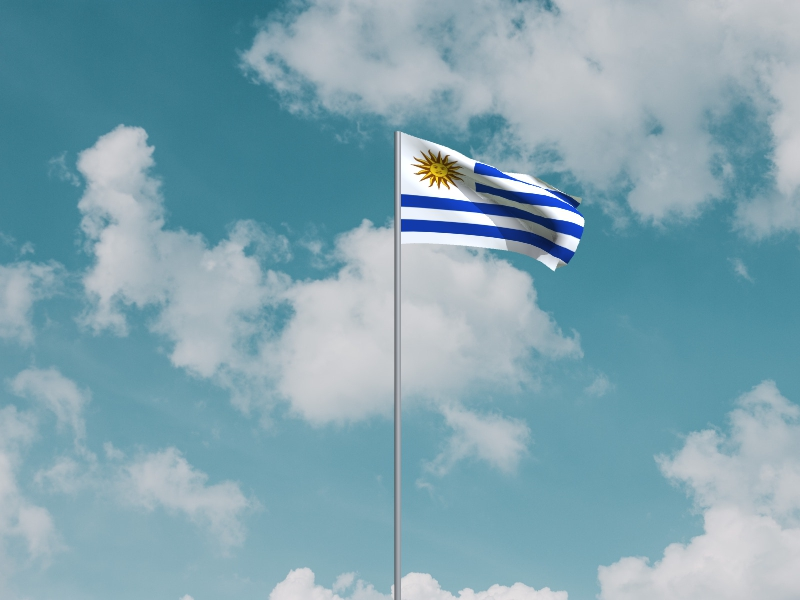uy: (401, 133, 585, 273)
